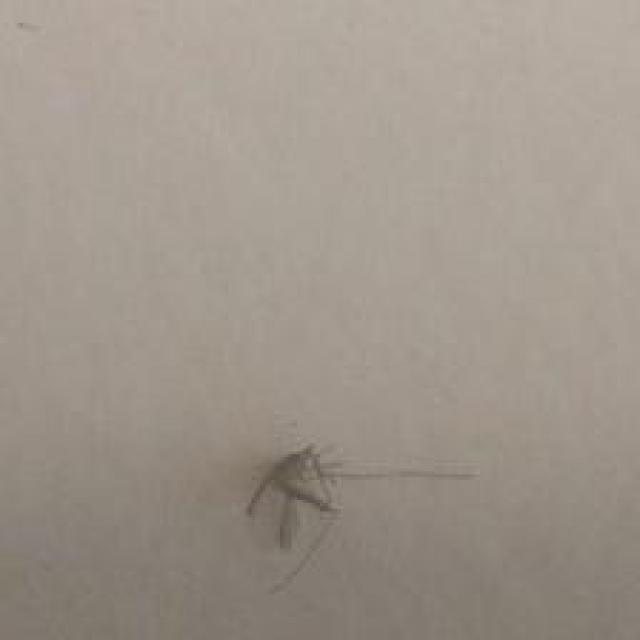Culex: (243, 440, 480, 594)
